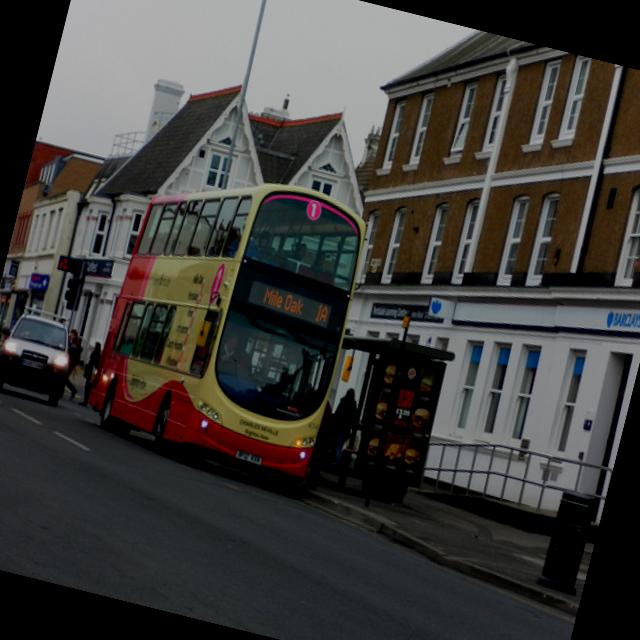Vehicle: (80, 151, 373, 494), (0, 301, 82, 414)
